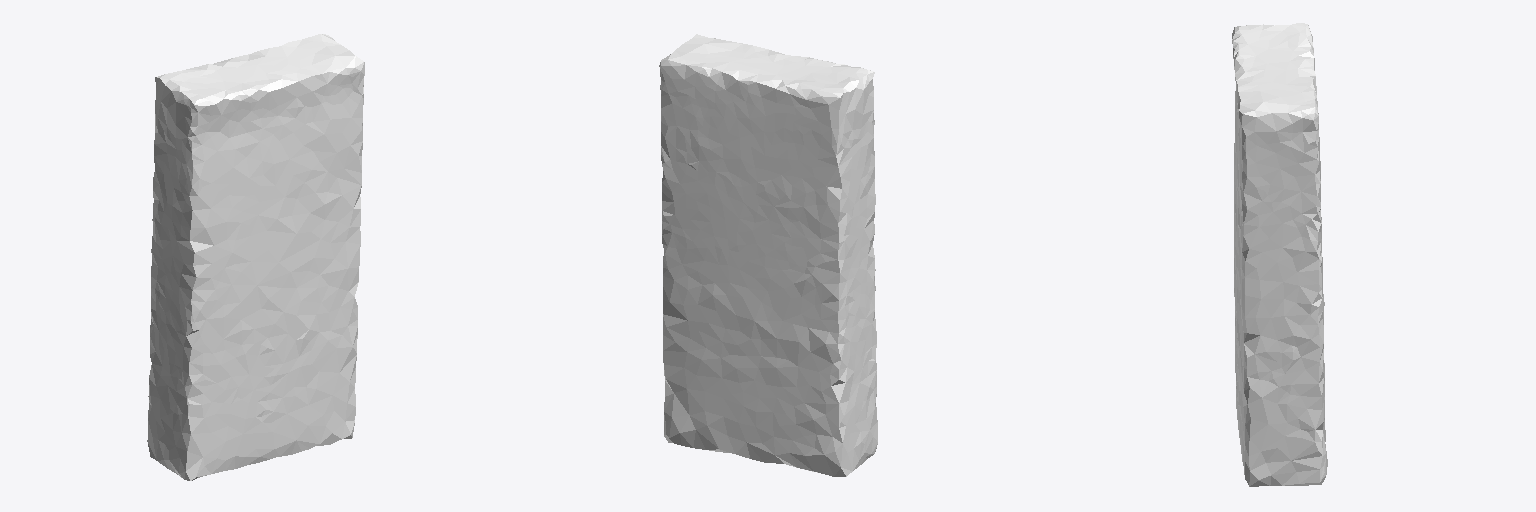
The model's file is Mac_and_cheese_0_1.obj.
3 views of the same model, side by side, from view 1: azimuth 30°, elevation 25°; view 2: azimuth 150°, elevation 25°; view 3: azimuth 270°, elevation 25° (orthographic).
Size of the model in its own units: 0.093 by 0.1846 by 0.0419.